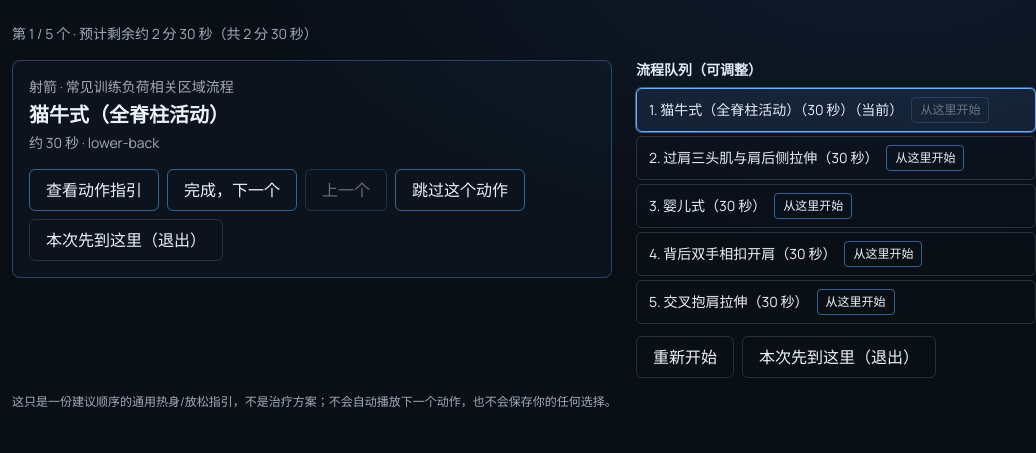
Scenario: FlowController (S22 acceptance) › advances ONLY on user tap; prev disabled at start; skip removes + restore brings back
The image size is (1036, 453).
expect the button "上一个" is disabled: met, box [305,169,387,211]
Click the button "完成，下一个".
click(232, 190)  # box [167,169,297,211]
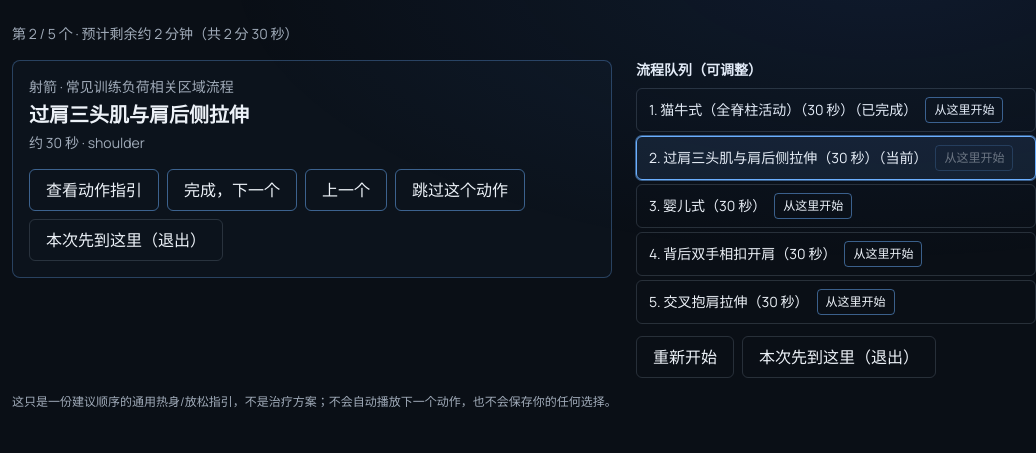
expect the text "第 2 / 5 个 · 预计剩余约 2 分钟（共 2 分 30 秒）" is shown: met, box [12,24,298,43]
expect the button "上一个" is enabled: met, box [305,169,387,211]
Click the button "跳过这个动作".
click(460, 190)  # box [395,169,525,211]
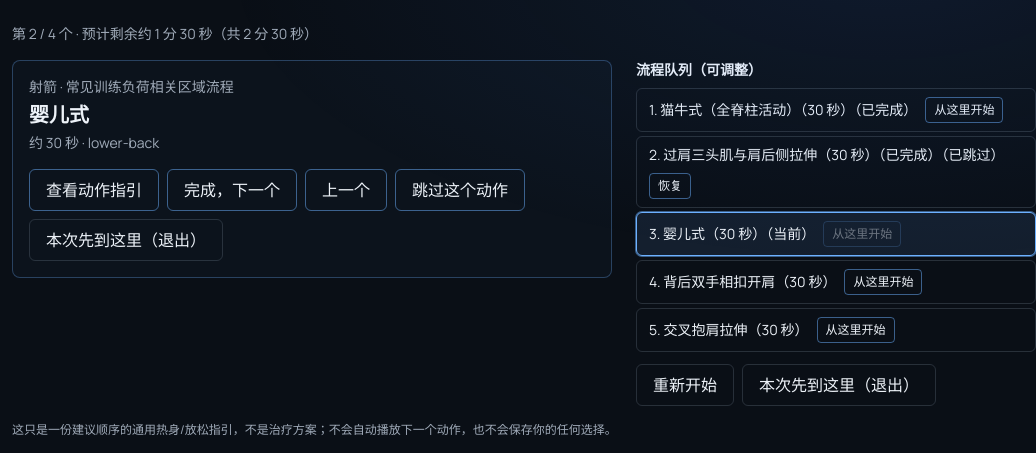
# Restore returns it to the queue.
Click the button "恢复".
click(670, 186)  # box [649,173,691,199]
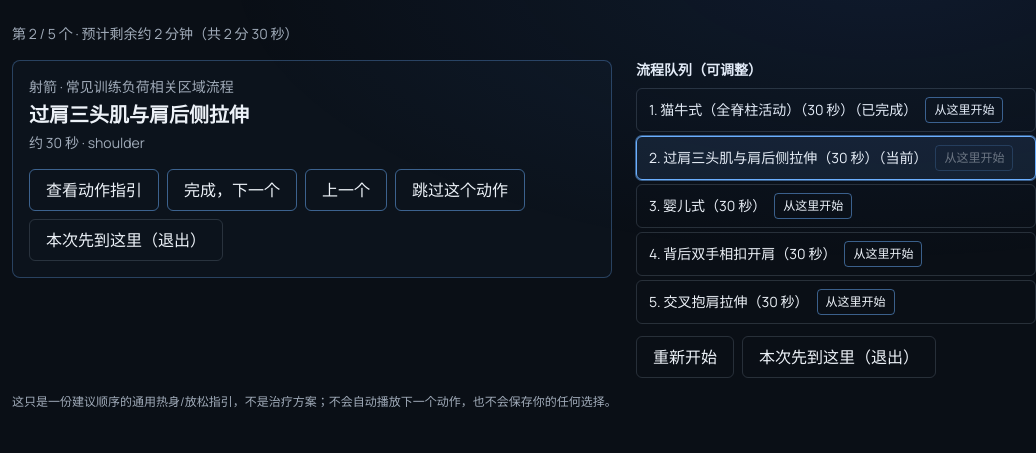
expect the text "已跳过" is not shown: met
